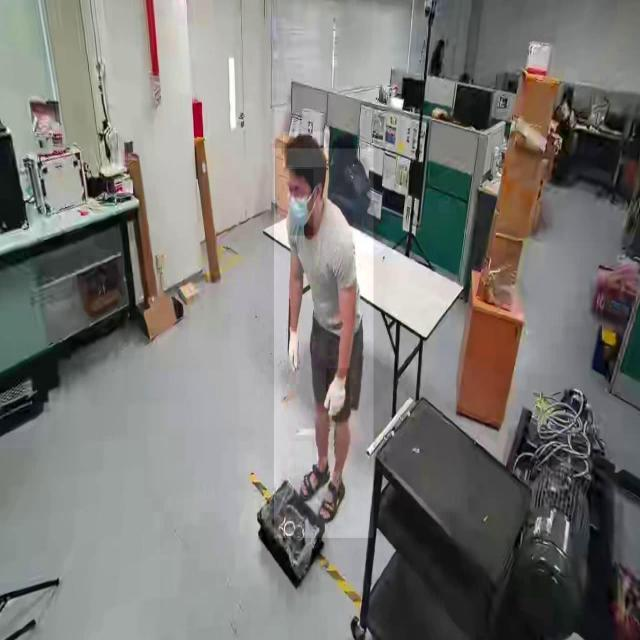gloves: (326, 368, 350, 423), (283, 324, 303, 370)
